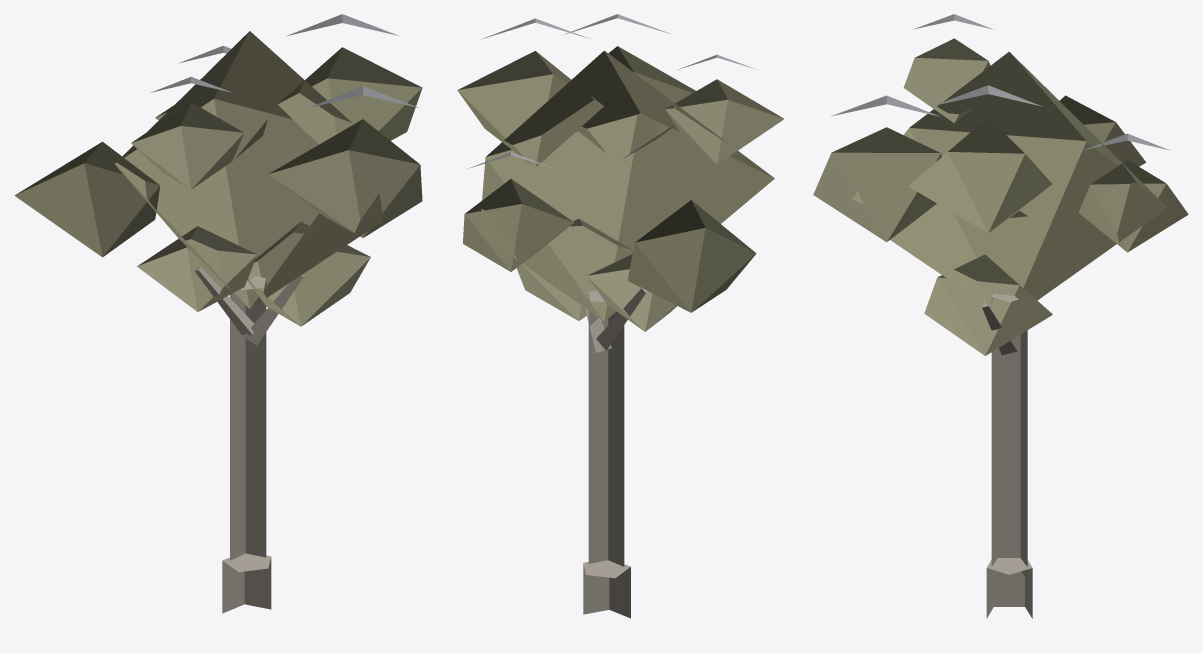
The model's file is tree.cold.birch__winter.glb.
The picture shows the model from 3 angles, left to right: view 1: azimuth 30°, elevation 25°; view 2: azimuth 150°, elevation 25°; view 3: azimuth 270°, elevation 25°; orthographic projection. The views are drawn at different scales.
Visible parts, largest first — view 1: tree.cold.birch__winter; view 2: tree.cold.birch__winter; view 3: tree.cold.birch__winter.
Part boxes in pixels (x1,y1,x2,y2): tree.cold.birch__winter: (14, 14, 422, 613); tree.cold.birch__winter: (457, 14, 783, 618); tree.cold.birch__winter: (813, 14, 1188, 618).
Bounding box in the file's own units: 6.03 × 9.92 × 5.93.
